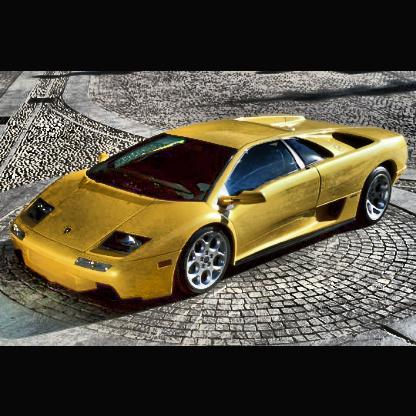Lamborghini Diablo Coupe 2001: (13, 115, 408, 301)
